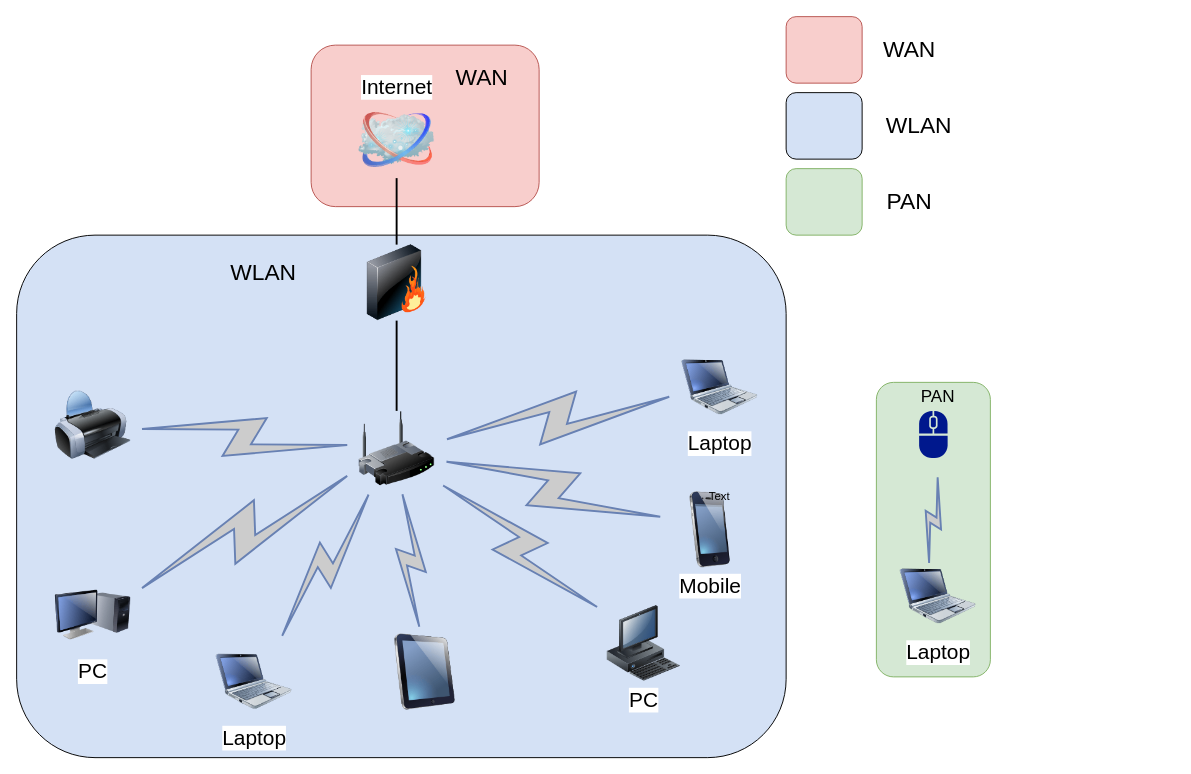
The diagram is 1191 pixels wide and 774 high, and some of its shapes have lost their labels. The shapes that lost their labels are listed below. From the top down, each one's centre as x and y in pixels, then its label:
the point at 396,282: Firewall
the point at 92,425: Printer
the point at 933,434: mouse
the point at 425,672: Tablet
